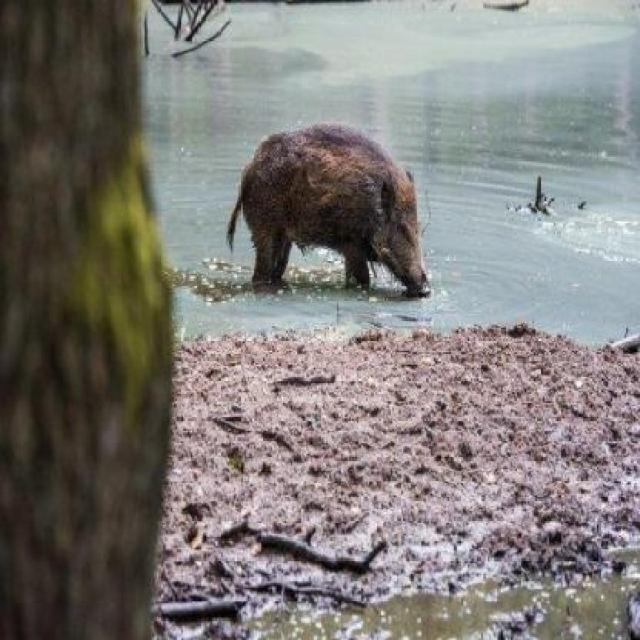wildboar: (224, 118, 430, 300)
